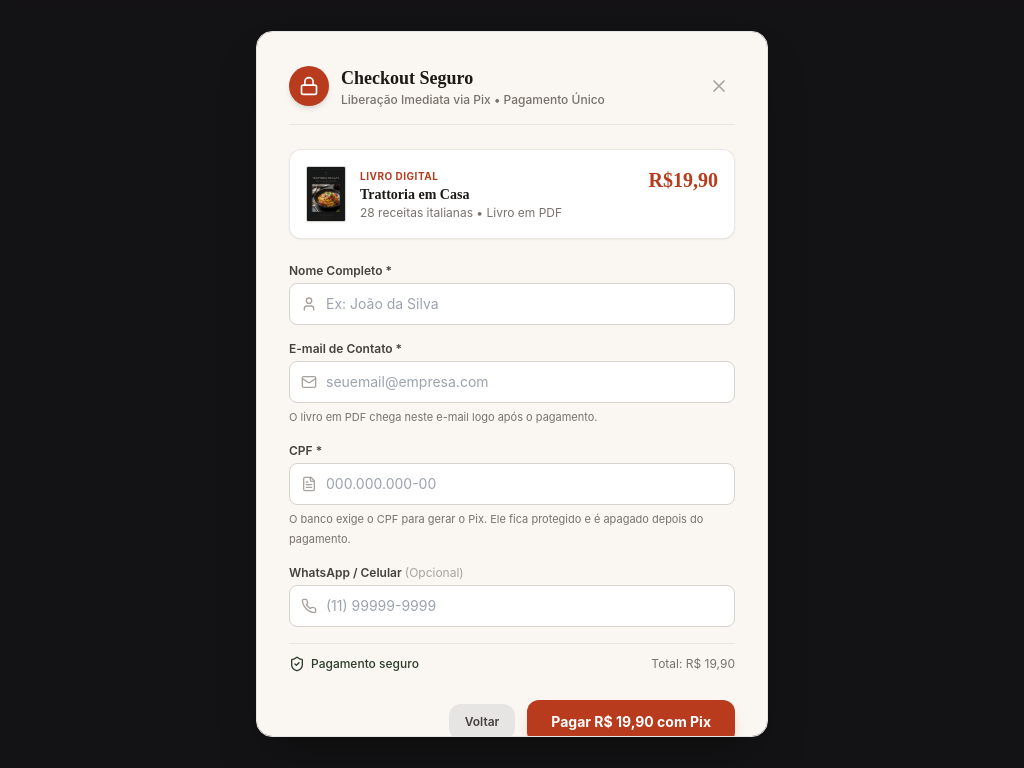
Scenario: NORQVA-0148 — e-mail no pagamento › o formulário mostra o motivo embaixo do campo
The image size is (1024, 768).
Type "lídia.souza@gmail.com" into the field with placeholder "seuemail@empresa.com" at (512,382), box [289,361,735,403]
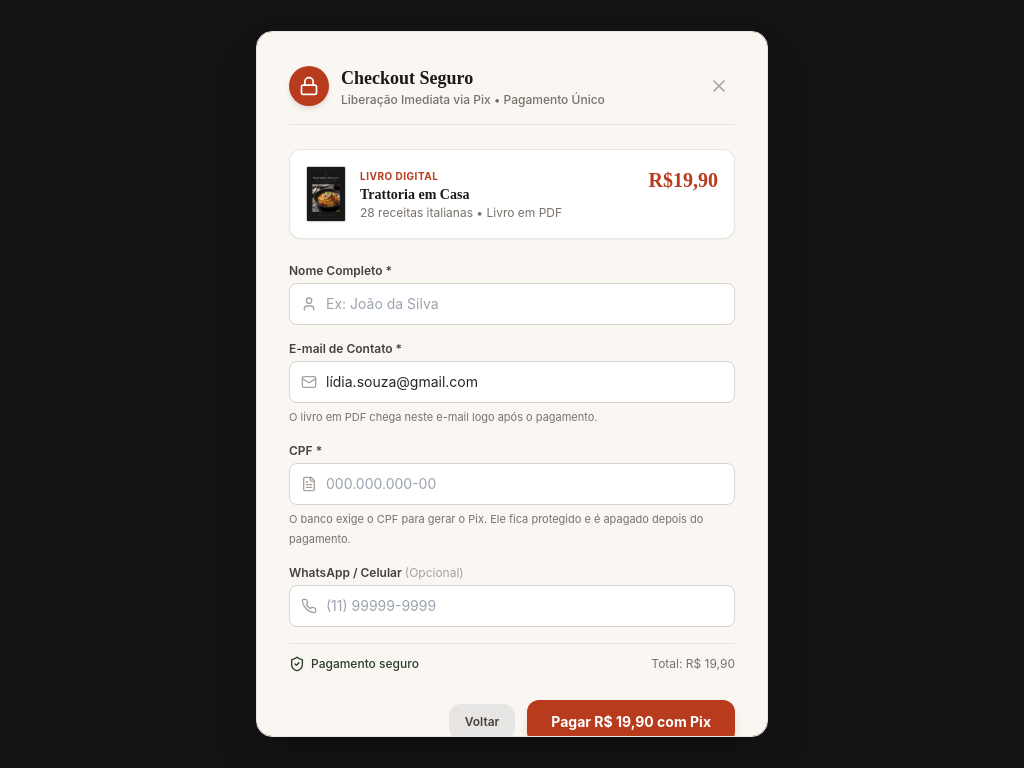
Leave the field with placeholder "seuemail@empresa.com", box [289,361,735,403]
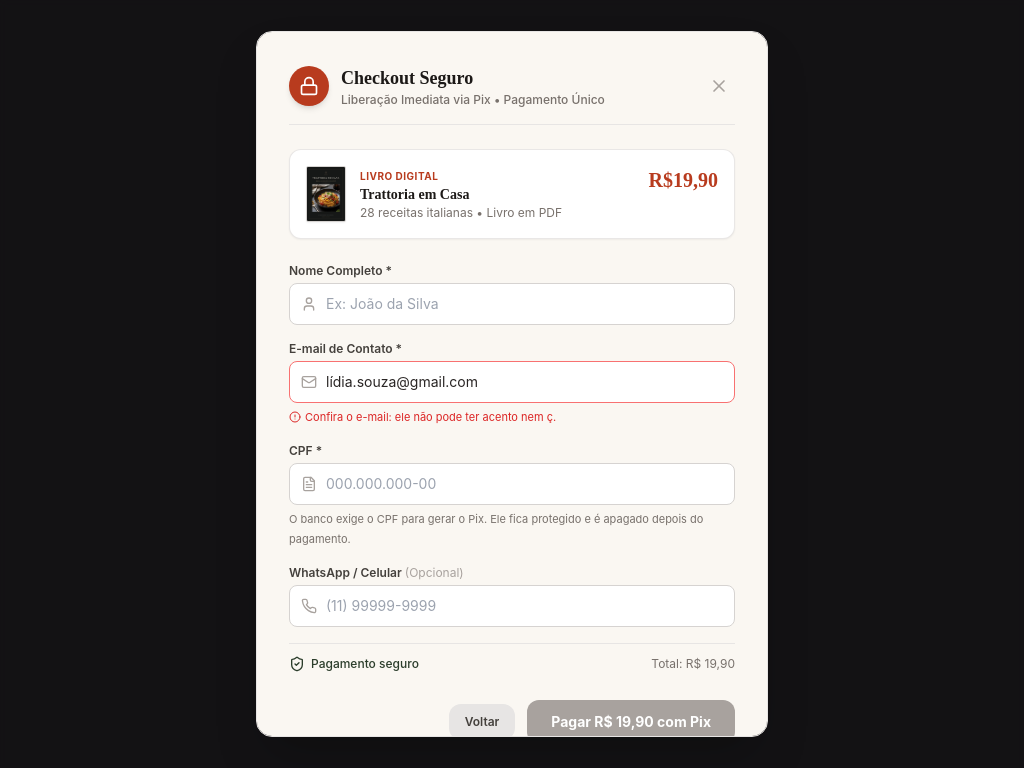
Now the text with test id "email-issue" reads "Confira o e-mail: ele não pode ter acento nem ç.", box [305,410,556,424]
